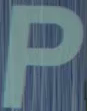Parking: (5, 1, 80, 103)
